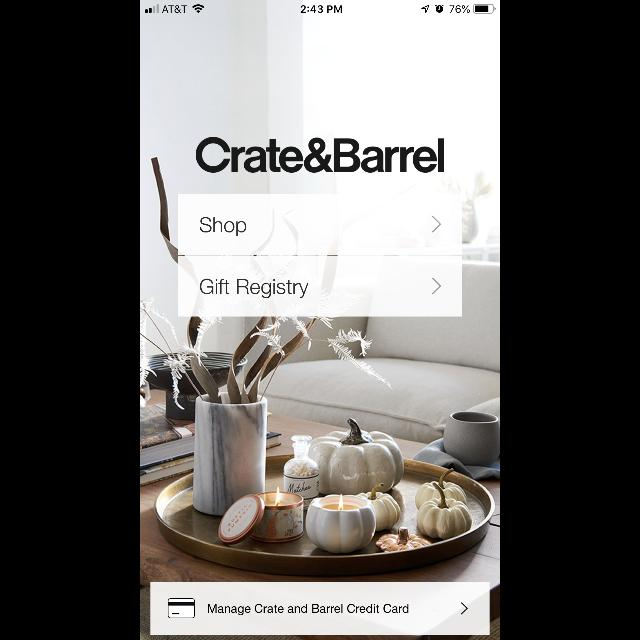backgroundimage: (140, 15, 500, 640)
icon: (168, 598, 196, 618), (432, 215, 441, 232), (432, 278, 441, 294), (460, 602, 468, 614)
text: (196, 137, 444, 173), (208, 604, 408, 616), (200, 279, 308, 299), (200, 217, 247, 237)
uppertaskbar: (140, 0, 500, 14)
